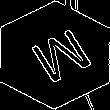M_SE: (18, 22, 92, 88)
